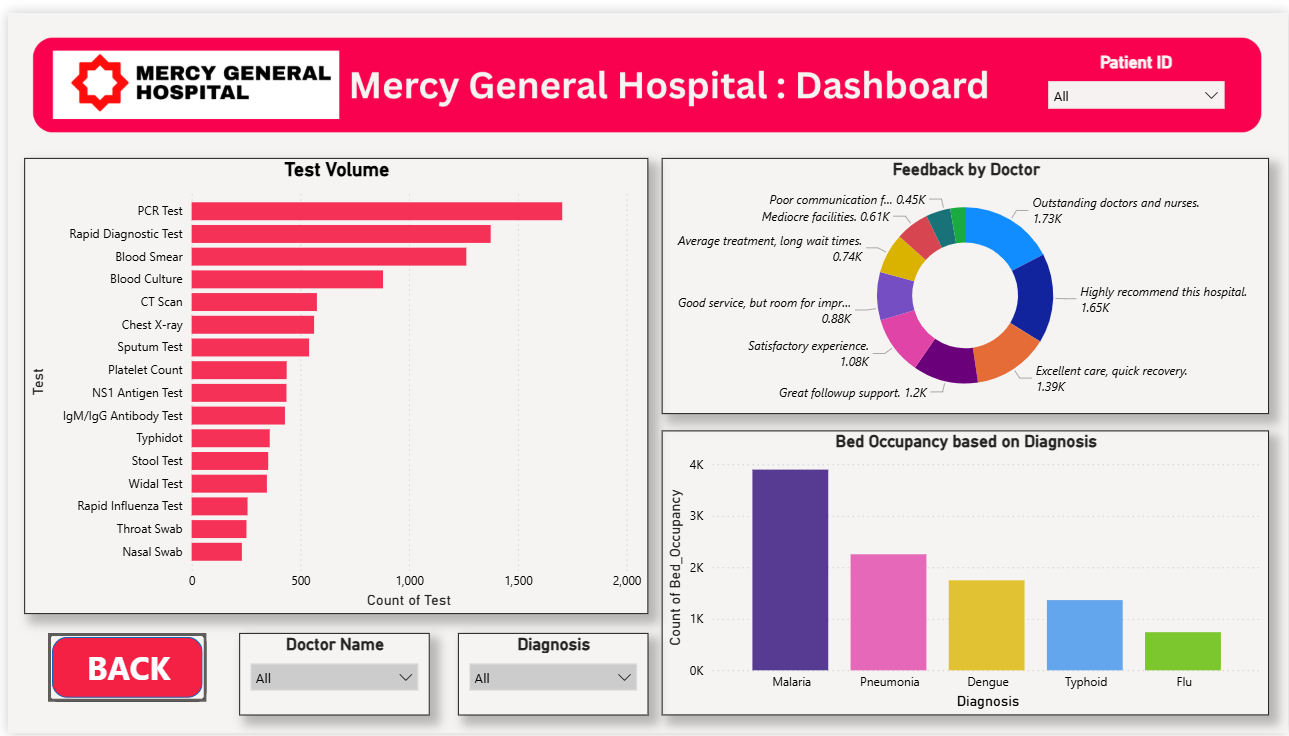

The dashboard page shown, as its layout file describes it:
{"tool":"powerbi","page":{"name":"Metrics","canvas":[1280,720],"ordinal":1},"visuals":[{"type":"donutChart","title":"Feedback by Patients","fields":{"Category":["Sheet1.Feedback"],"Y":["Sheet1.Feedback"]},"box":[653.8,145,607.5,256.2],"z":0},{"type":"shape","box":[40,620,158.8,68.8],"z":1},{"type":"textbox","box":[56.2,627.5,128.8,55],"z":2},{"type":"actionButton","box":[40,620,158.8,68.8],"z":3},{"type":"columnChart","title":" Bed Occupancy based on Diagnosis","fields":{"Category":["Sheet1.Diagnosis"],"Y":["Sheet1.Bed_Occupancy"]},"box":[653.8,417.5,607.5,285],"z":4},{"type":"clusteredBarChart","title":"Test Type","fields":{"Y":["Sheet1.Test"],"Category":["Sheet1.Test"]},"box":[16.2,145,623.8,456.2],"z":6},{"type":"slicer","title":"Patient ID","fields":{"Values":["Sheet1.Patient_ID"]},"box":[1030,38.8,196.2,71.2],"z":8},{"type":"slicer","title":"Doctor Name","fields":{"Values":["Sheet1.Doctor"]},"box":[231.2,620,190,82.5],"z":9},{"type":"slicer","title":"Diagnosis","fields":{"Values":["Sheet1.Diagnosis"]},"box":[450,620,190,82.5],"z":11}]}

Visuals, with their boxes in screenshot pixels (x1, y1, x2, y2), scaled from the page's 1280x720 canvas onto the 1289x736 screenshot:
"Feedback by Patients" donutChart: Rect(658, 148, 1270, 410)
shape: Rect(40, 634, 200, 704)
textbox: Rect(57, 641, 186, 698)
actionButton: Rect(40, 634, 200, 704)
" Bed Occupancy based on Diagnosis" columnChart: Rect(658, 427, 1270, 718)
"Test Type" clusteredBarChart: Rect(16, 148, 644, 615)
"Patient ID" slicer: Rect(1037, 40, 1235, 112)
"Doctor Name" slicer: Rect(233, 634, 424, 718)
"Diagnosis" slicer: Rect(453, 634, 644, 718)
